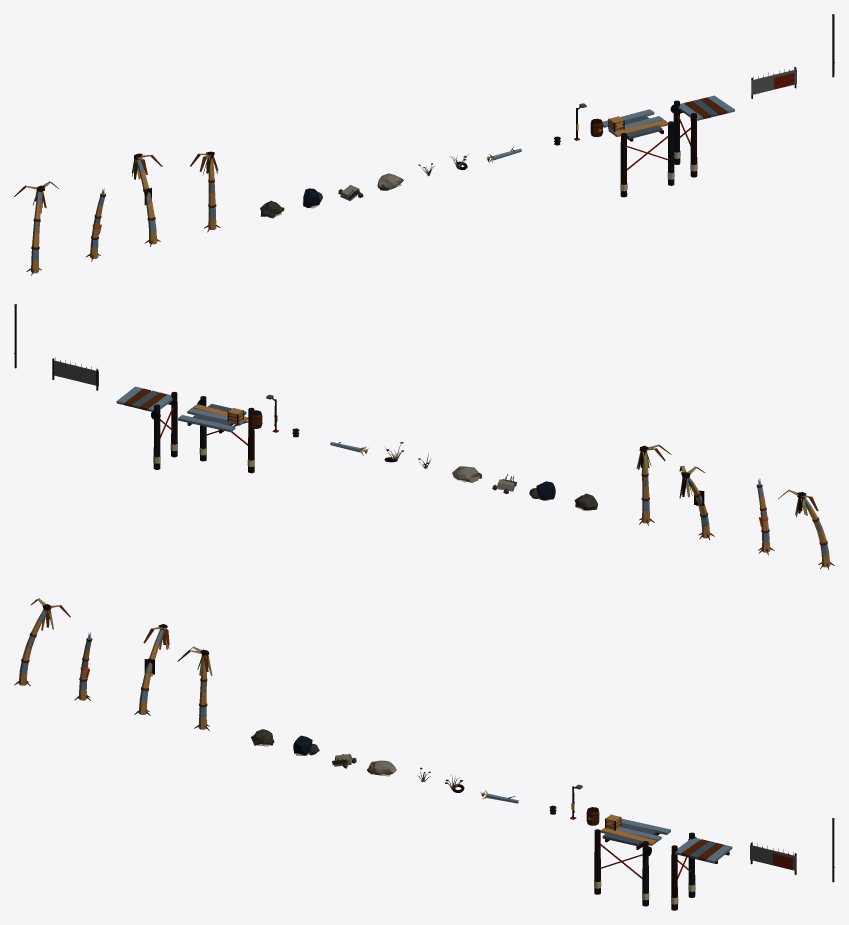
File: tb_coast_kit.glb
3 views of the same model, one above another, from view 1: azimuth 30°, elevation 25°; view 2: azimuth 150°, elevation 25°; view 3: azimuth 330°, elevation 25° (orthographic).
Parts seen in each view (by area): view 1: pier_section, finger_section, dead_palm_c, dead_palm_a, dead_palm_d, fence_panel, dead_palm_b; view 2: finger_section, pier_section, dead_palm_a, dead_palm_c, fence_panel, dead_palm_d, dead_palm_b; view 3: pier_section, finger_section, dead_palm_c, dead_palm_a, fence_panel, dead_palm_d.
Boxes of the visible parts, x1,y1,x2,y2 form: pier_section: (602,109,677,197); finger_section: (670,95,734,177); dead_palm_c: (132,153,162,246); dead_palm_a: (14,181,58,275); dead_palm_d: (190,151,220,232); fence_panel: (751,66,796,98); dead_palm_b: (86,188,105,261); finger_section: (116,386,177,469); pier_section: (178,396,254,473); dead_palm_a: (778,489,834,569); dead_palm_c: (679,465,714,539); fence_panel: (52,357,98,390); dead_palm_d: (636,444,671,525); dead_palm_b: (756,478,774,555); pier_section: (594,818,670,906); finger_section: (671,832,732,910); dead_palm_c: (134,624,169,715); dead_palm_a: (14,598,70,686); fence_panel: (750,842,796,874); dead_palm_d: (177,646,212,730).
Size of the model in its own units: 81.8 by 12.87 by 6.24.
